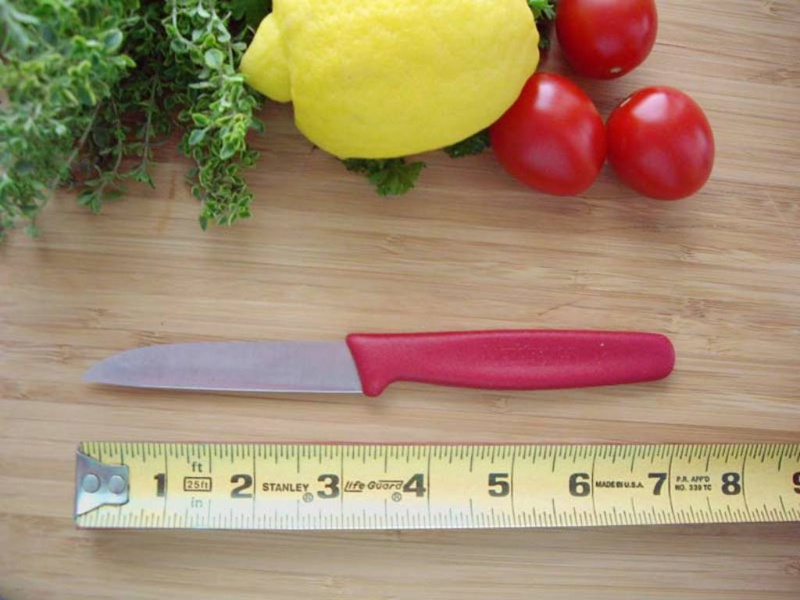knife: (73, 321, 677, 405)
